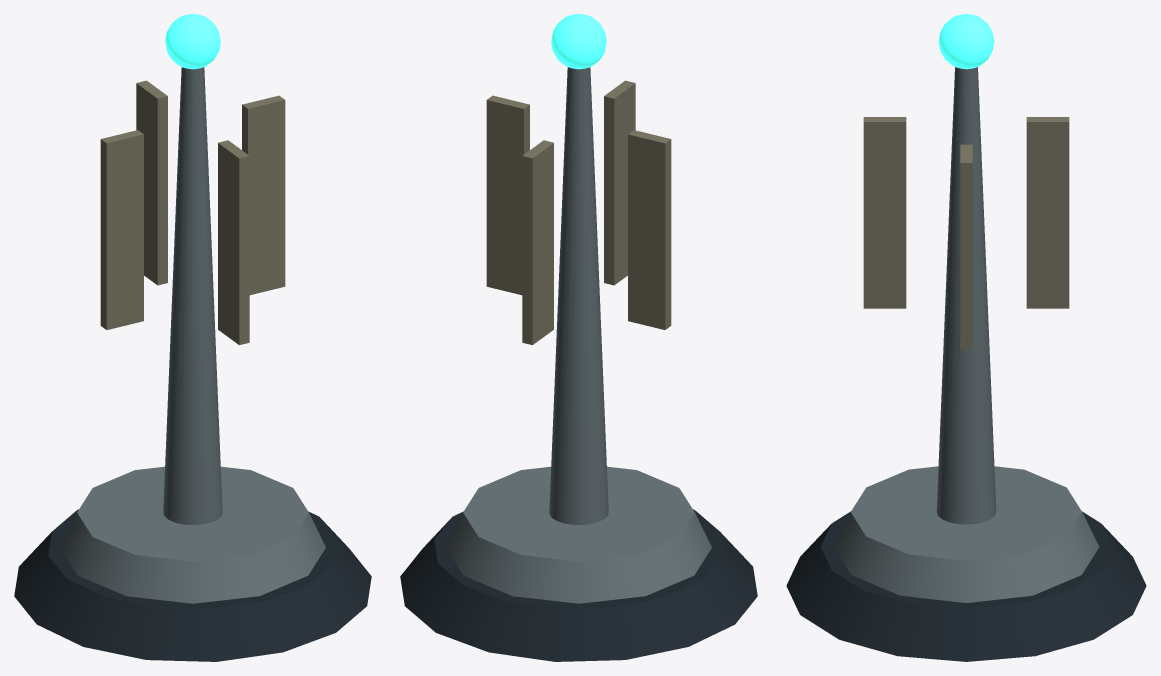
The model's file is pelagic_high_pressure--command_relay.glb.
The picture shows the model from 3 angles, left to right: view 1: azimuth 30°, elevation 25°; view 2: azimuth 150°, elevation 25°; view 3: azimuth 270°, elevation 25°; orthographic projection.
Visible parts, largest first — view 1: rotation_bearing_2, mount_adapter_1, relay_mast_3, relay_vane_6, relay_vane_4, relay_vane_5, relay_vane_7, signal_tip_8; view 2: rotation_bearing_2, mount_adapter_1, relay_mast_3, relay_vane_6, relay_vane_4, relay_vane_7, relay_vane_5, signal_tip_8; view 3: rotation_bearing_2, mount_adapter_1, relay_mast_3, relay_vane_5, relay_vane_7, relay_vane_4, signal_tip_8.
Part boxes in pixels (x1,y1,x2,y2): rotation_bearing_2: [60, 466, 325, 603]; mount_adapter_1: [14, 509, 371, 661]; relay_mast_3: [163, 67, 222, 524]; relay_vane_6: [100, 130, 143, 329]; relay_vane_4: [242, 95, 285, 295]; relay_vane_5: [218, 140, 249, 344]; relay_vane_7: [136, 80, 167, 285]; signal_tip_8: [165, 14, 220, 69]; rotation_bearing_2: [446, 466, 711, 603]; mount_adapter_1: [400, 509, 757, 661]; relay_mast_3: [549, 67, 608, 524]; relay_vane_6: [628, 130, 671, 329]; relay_vane_4: [486, 95, 529, 295]; relay_vane_7: [522, 140, 553, 344]; relay_vane_5: [604, 80, 635, 285]; signal_tip_8: [551, 14, 606, 69]; rotation_bearing_2: [833, 466, 1099, 602]; mount_adapter_1: [786, 511, 1146, 661]; relay_mast_3: [936, 67, 996, 524]; relay_vane_5: [863, 117, 906, 308]; relay_vane_7: [1026, 117, 1069, 308]; relay_vane_4: [960, 144, 972, 349]; signal_tip_8: [938, 14, 994, 69].
Bounding box in the file's own units: 5.04 × 8.79 × 5.04.
